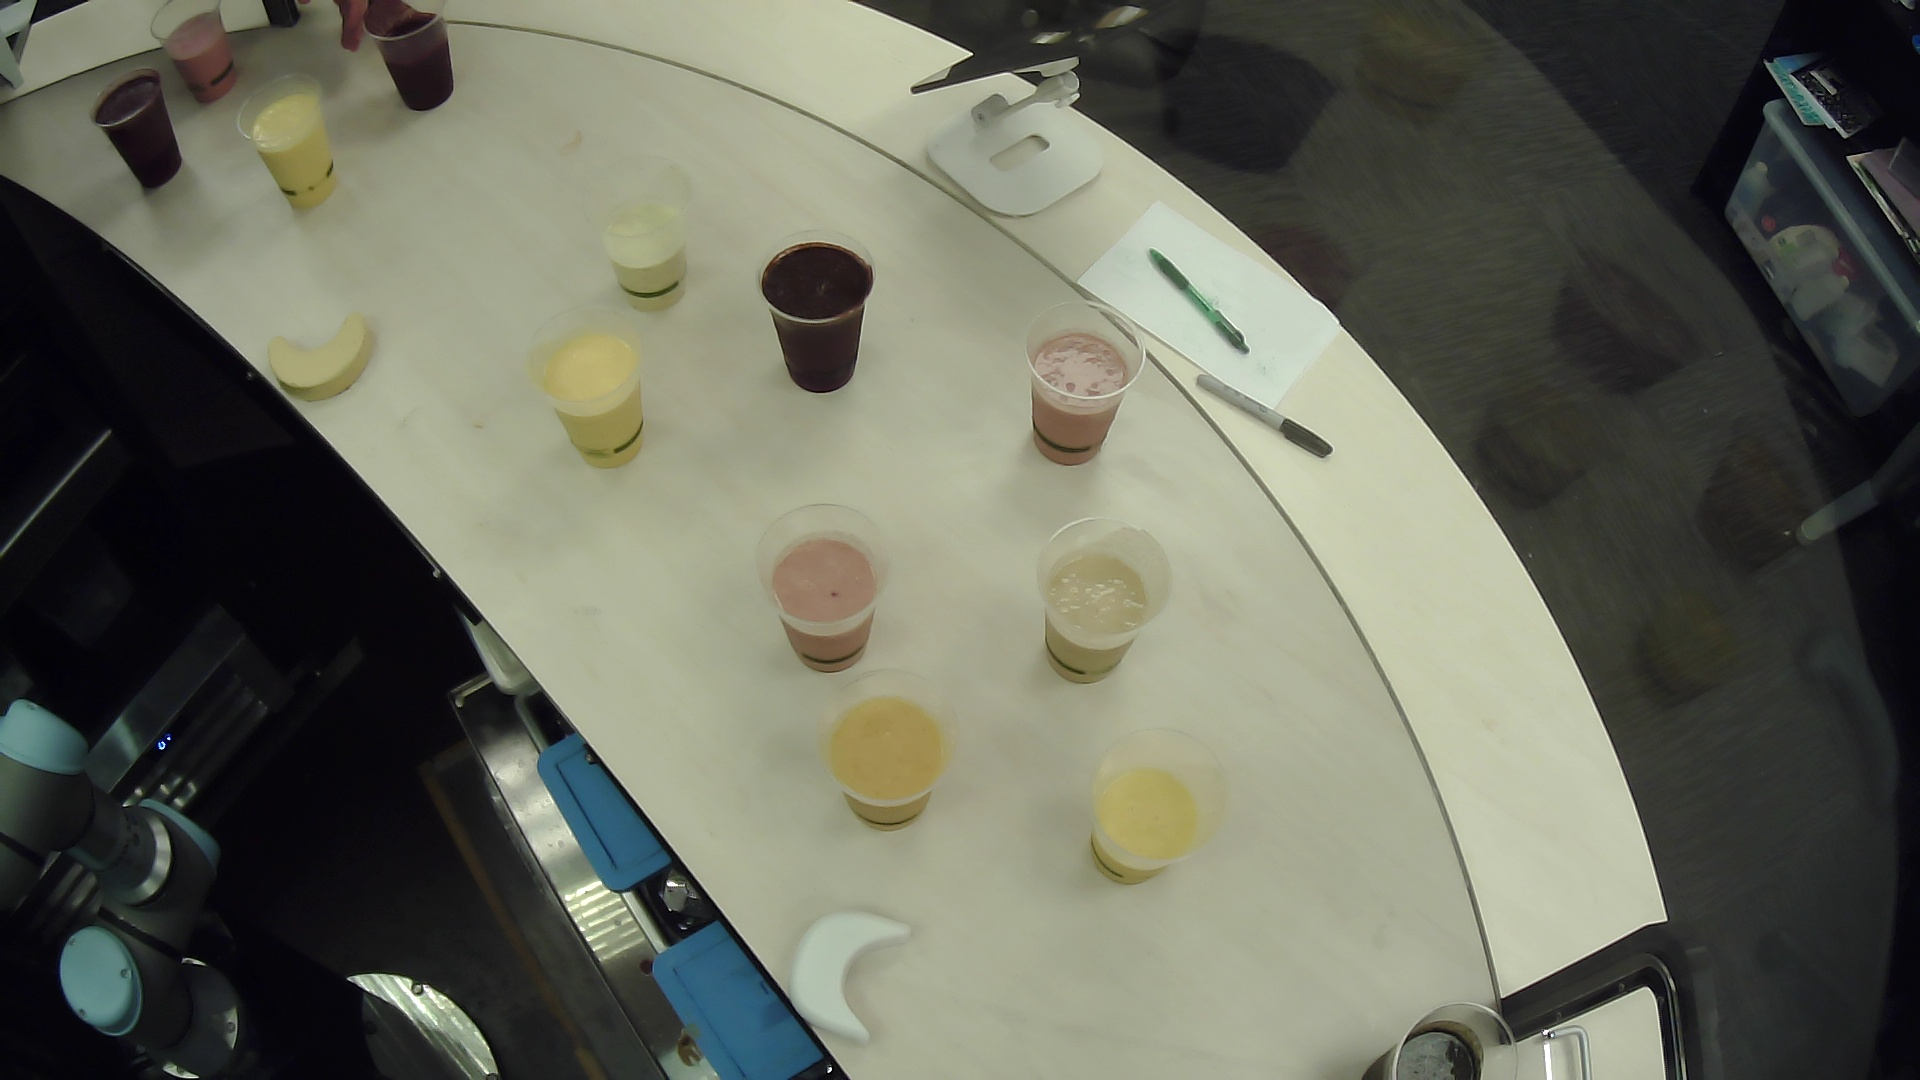Deliver: (775, 880, 944, 1063), (265, 303, 382, 404)
Full_cup: (1052, 713, 1241, 906), (1313, 949, 1578, 1080), (748, 477, 911, 688), (998, 287, 1172, 479), (793, 659, 967, 849), (1019, 512, 1189, 690), (572, 135, 717, 331), (753, 218, 884, 417), (525, 303, 665, 483), (224, 67, 360, 232), (353, 1, 493, 125), (73, 54, 186, 199), (135, 1, 269, 107)
